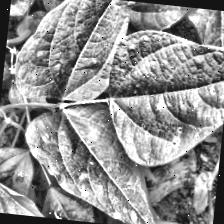Bean Rust: (16, 98, 168, 224), (101, 22, 224, 172)
